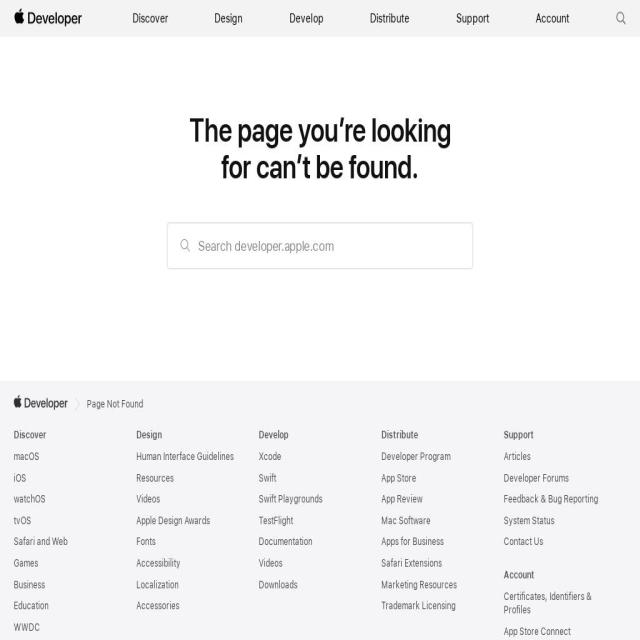button: (7, 0, 92, 37), (364, 0, 416, 37), (126, 0, 174, 37), (282, 0, 330, 37), (450, 0, 496, 37), (530, 0, 576, 37), (208, 0, 250, 37)
field: (167, 222, 473, 270)
heading: (189, 112, 451, 185), (381, 429, 418, 442), (14, 429, 46, 442), (259, 429, 289, 442), (504, 429, 534, 442), (504, 569, 534, 582), (136, 429, 162, 442)
image: (610, 0, 632, 37), (180, 238, 192, 254)
link: (504, 591, 592, 616), (504, 493, 598, 506), (136, 451, 234, 463), (381, 578, 457, 591), (136, 514, 210, 527), (381, 600, 456, 612), (381, 451, 451, 463), (258, 493, 322, 506), (504, 625, 570, 637), (504, 472, 568, 484), (381, 536, 444, 548), (381, 558, 442, 569), (13, 536, 68, 548), (381, 514, 431, 527), (504, 514, 554, 527), (258, 536, 312, 548), (136, 578, 179, 591), (136, 600, 180, 612), (258, 578, 298, 591), (382, 493, 422, 506), (136, 558, 181, 569), (504, 536, 543, 548), (136, 472, 174, 484), (259, 514, 293, 527), (14, 493, 46, 506), (14, 600, 48, 612), (382, 472, 416, 484), (14, 578, 45, 591), (14, 621, 40, 633), (136, 493, 160, 506), (504, 451, 530, 463), (14, 451, 39, 463), (14, 558, 38, 569), (259, 451, 281, 463), (258, 558, 282, 569), (136, 536, 156, 548), (14, 514, 31, 527), (259, 472, 276, 484), (14, 472, 26, 484)
text: (75, 395, 146, 415), (370, 12, 410, 25), (132, 12, 168, 25), (288, 12, 324, 25), (456, 12, 490, 25), (536, 12, 570, 25), (214, 12, 243, 25)
